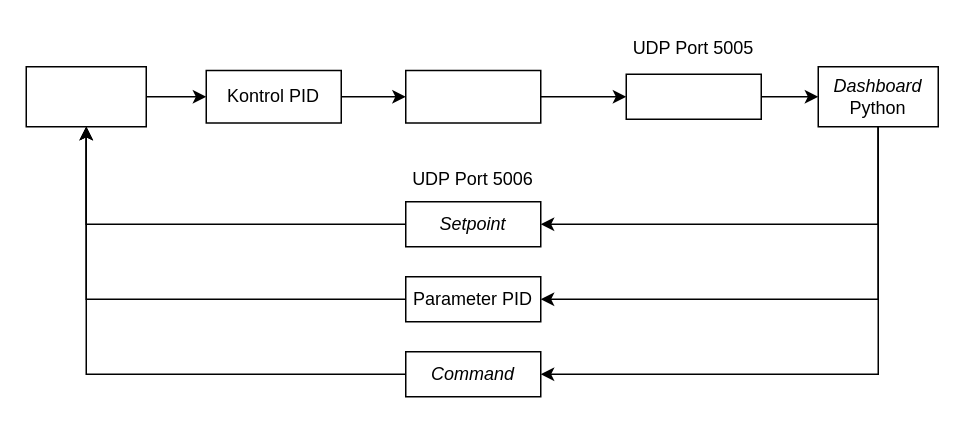
Image size: 965x423. Some labels were removed from this diagram. The shapes that lost their labels are listed below. From the top down, each one's box as (x1, y1, x2, y2) in pixels, then its label:
(25, 65, 146, 127): Simulator Unity
(404, 69, 541, 123): Modul Swerve Drive Berotasi
(625, 73, 761, 119): Sudut Modul
